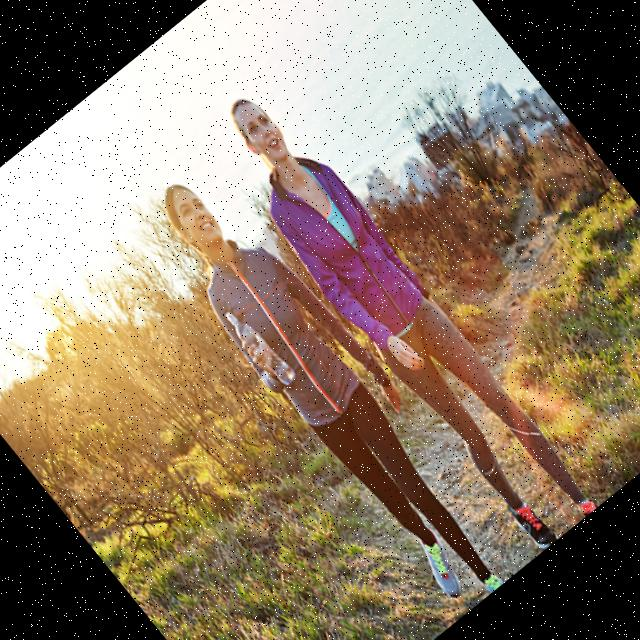Person: (193, 79, 603, 557), (129, 153, 536, 621)
